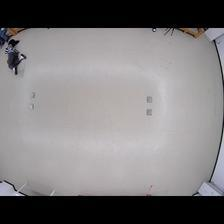fall: (3, 38, 26, 74)
